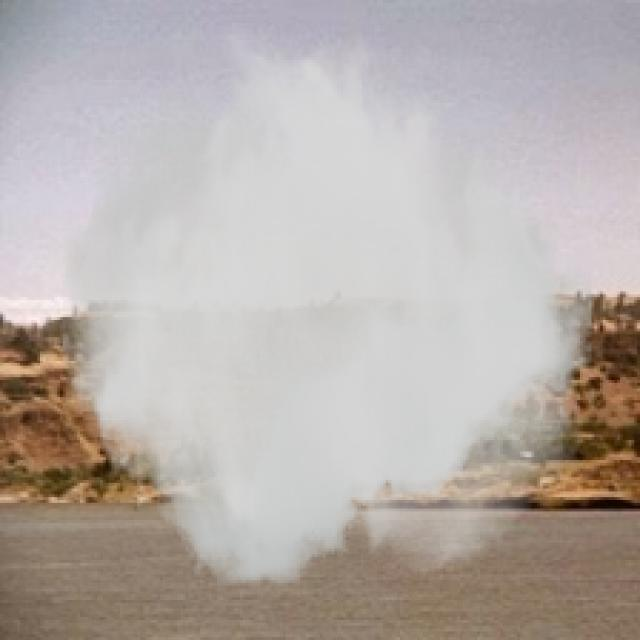smoke: (54, 17, 592, 586)
